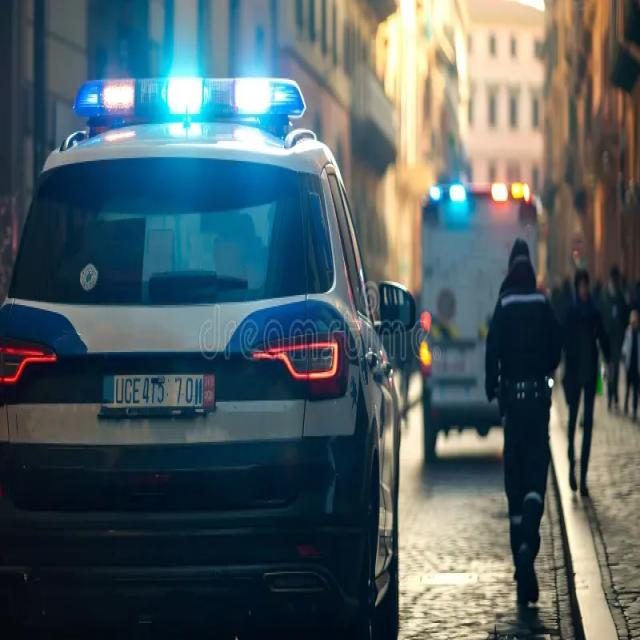emergency lights: (78, 43, 315, 138), (428, 170, 528, 212)
